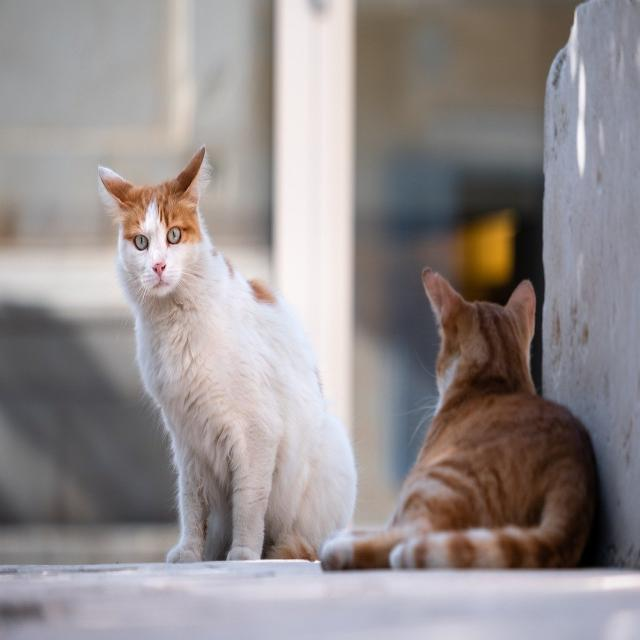cat: (99, 146, 356, 563), (320, 268, 595, 569)
